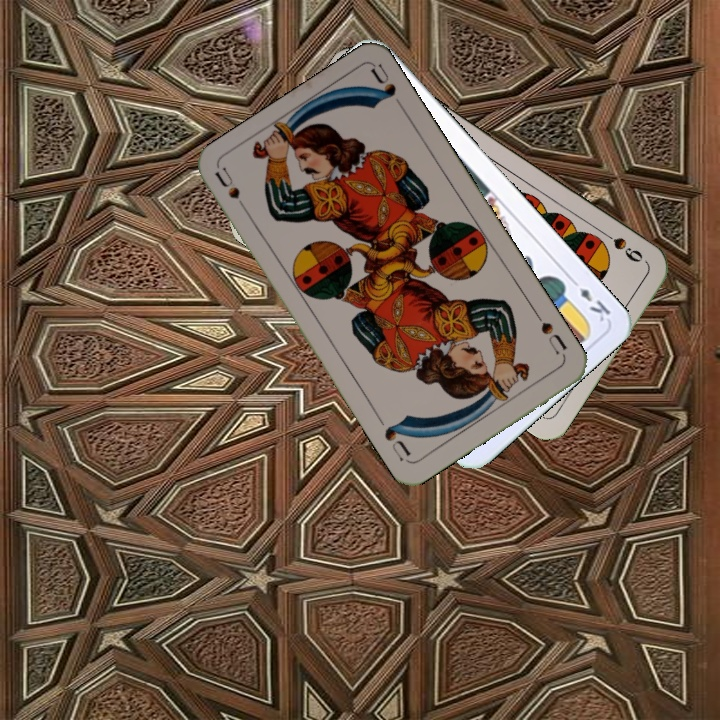EK: (566, 273, 614, 325)
S9: (595, 225, 646, 265)
SU: (211, 164, 253, 219), (530, 307, 569, 360)
